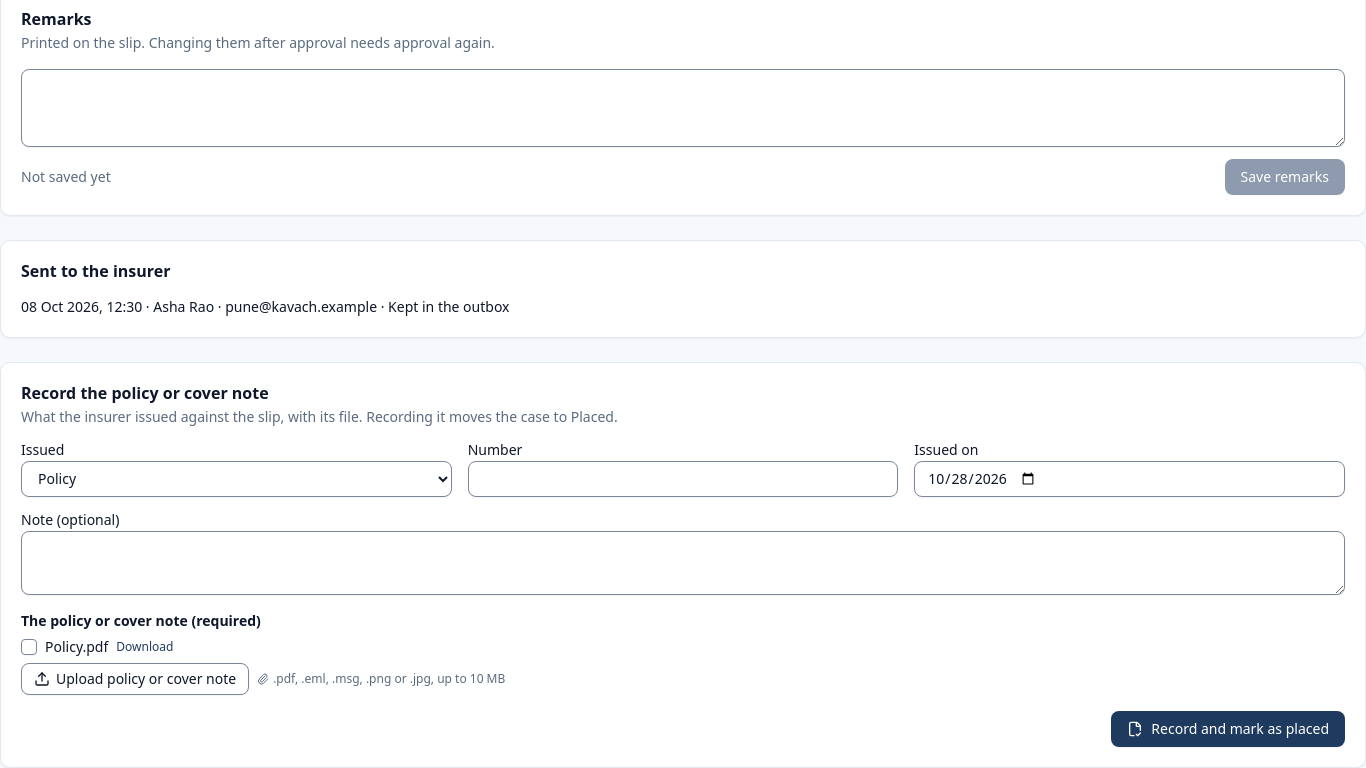
PlacementSlipPanel › records the policy or cover note issued
(page scrolled)
Select "Cover note" in the dropdown labelled "Issued". click: (236, 478)
box: [21,460,452,496]
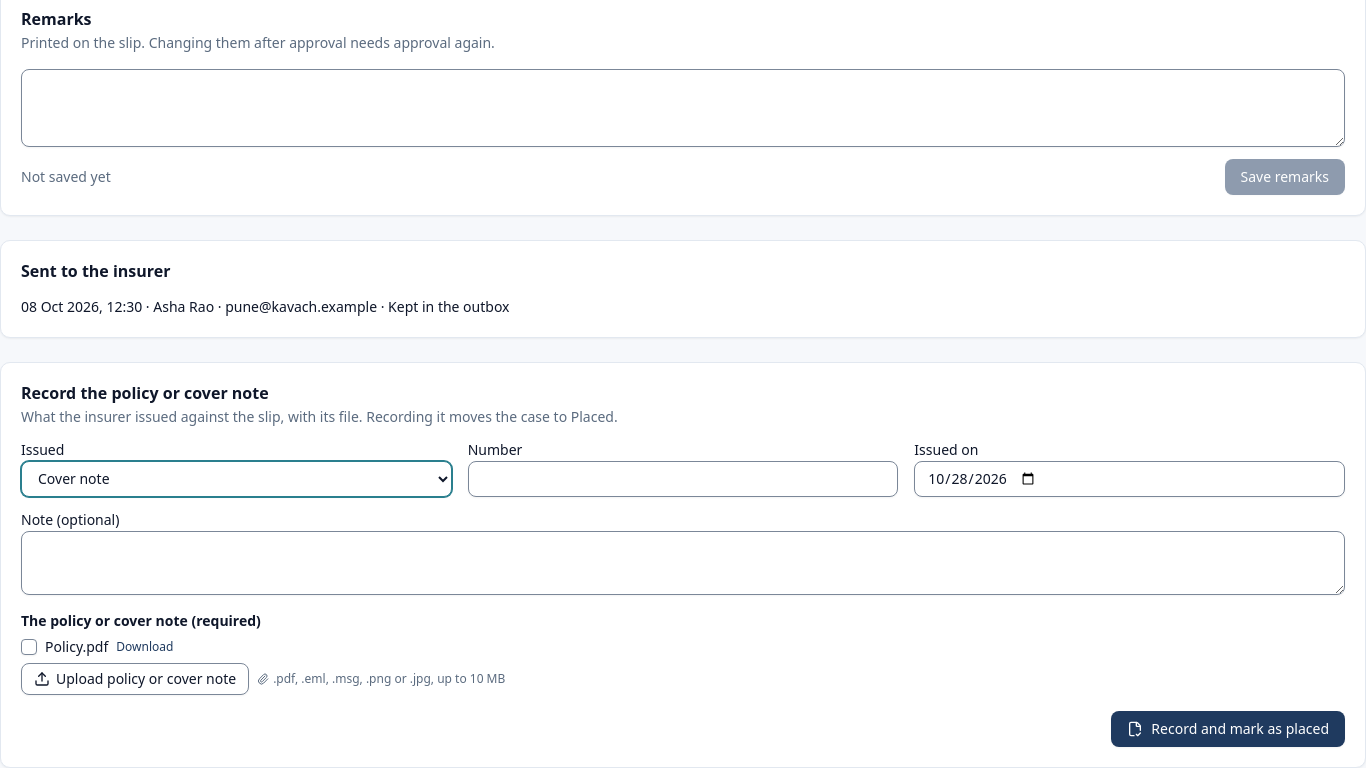
Type "CN-77" into the field labelled "Number". click: (683, 478)
box: [468,460,898,496]
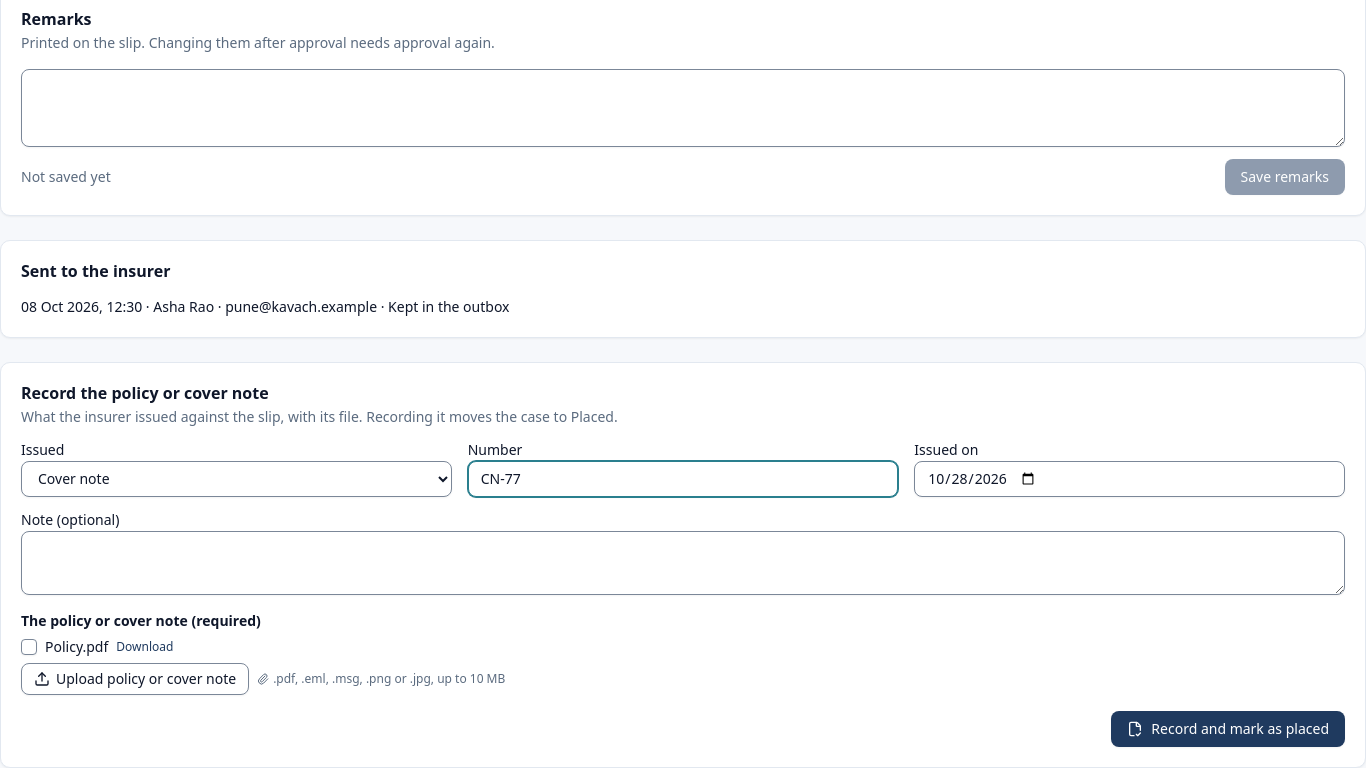
Type "2026-10-08" into the date field labelled "Issued on". click: (1130, 478)
box: [914,460,1345,496]
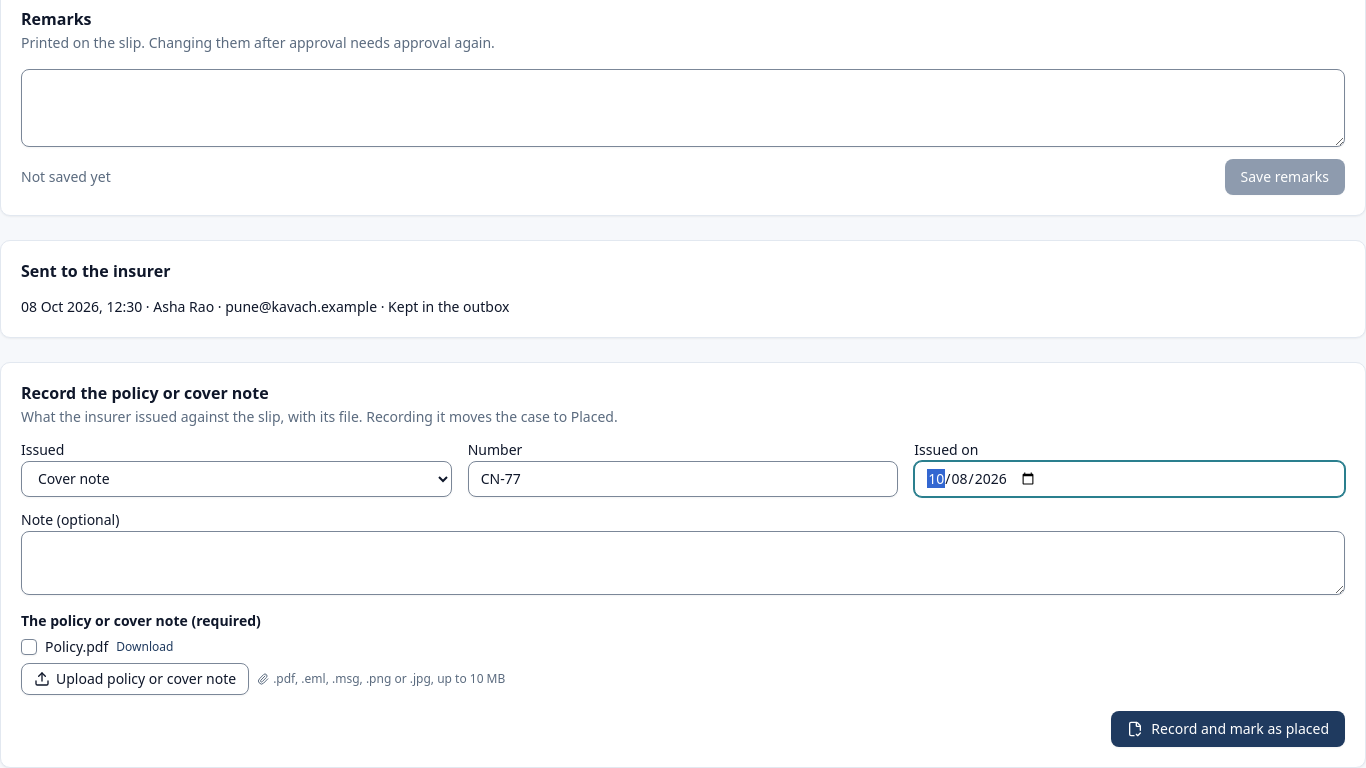
Click the checkbox named "Policy.pdf". click: click(29, 646)
box: [21,638,37,654]
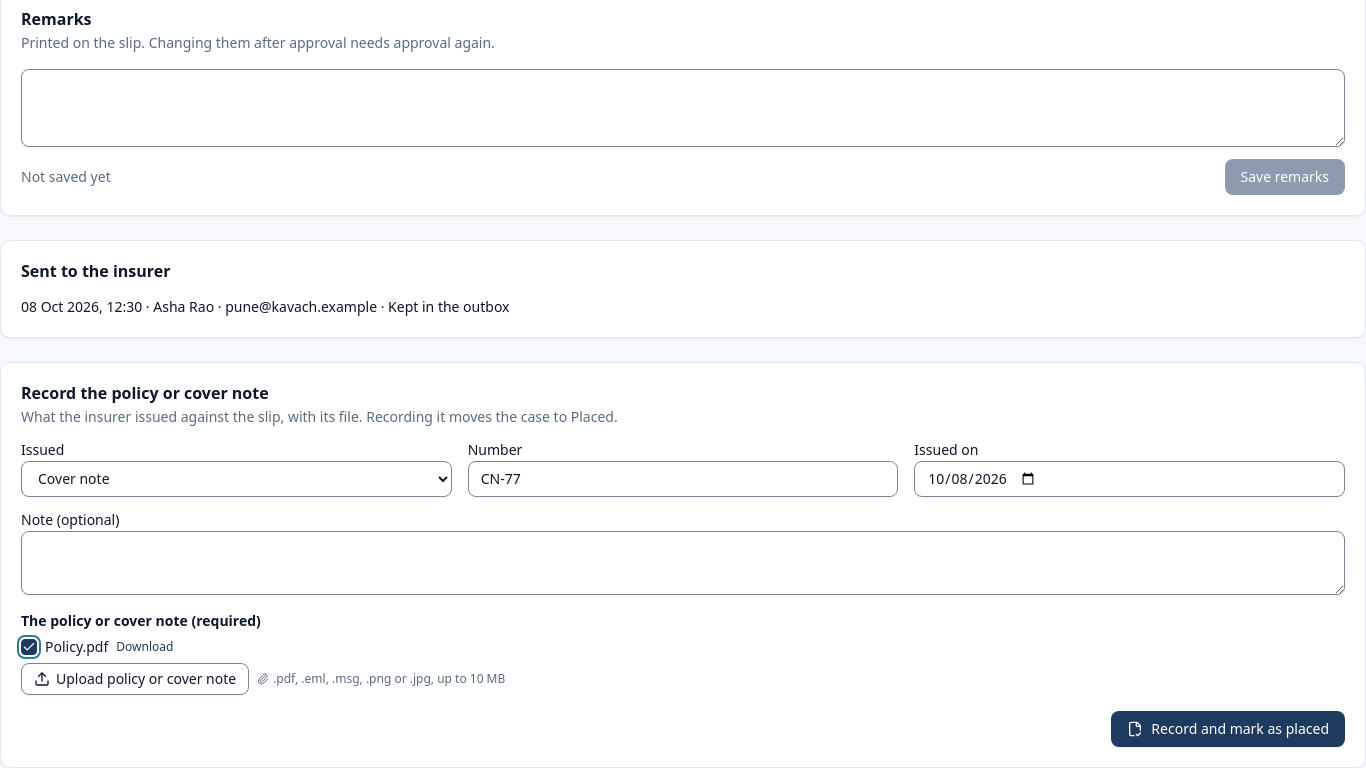
Click the button "Record and mark as placed". click: click(1228, 728)
box: [1111,710,1345,746]
(page scrolled)
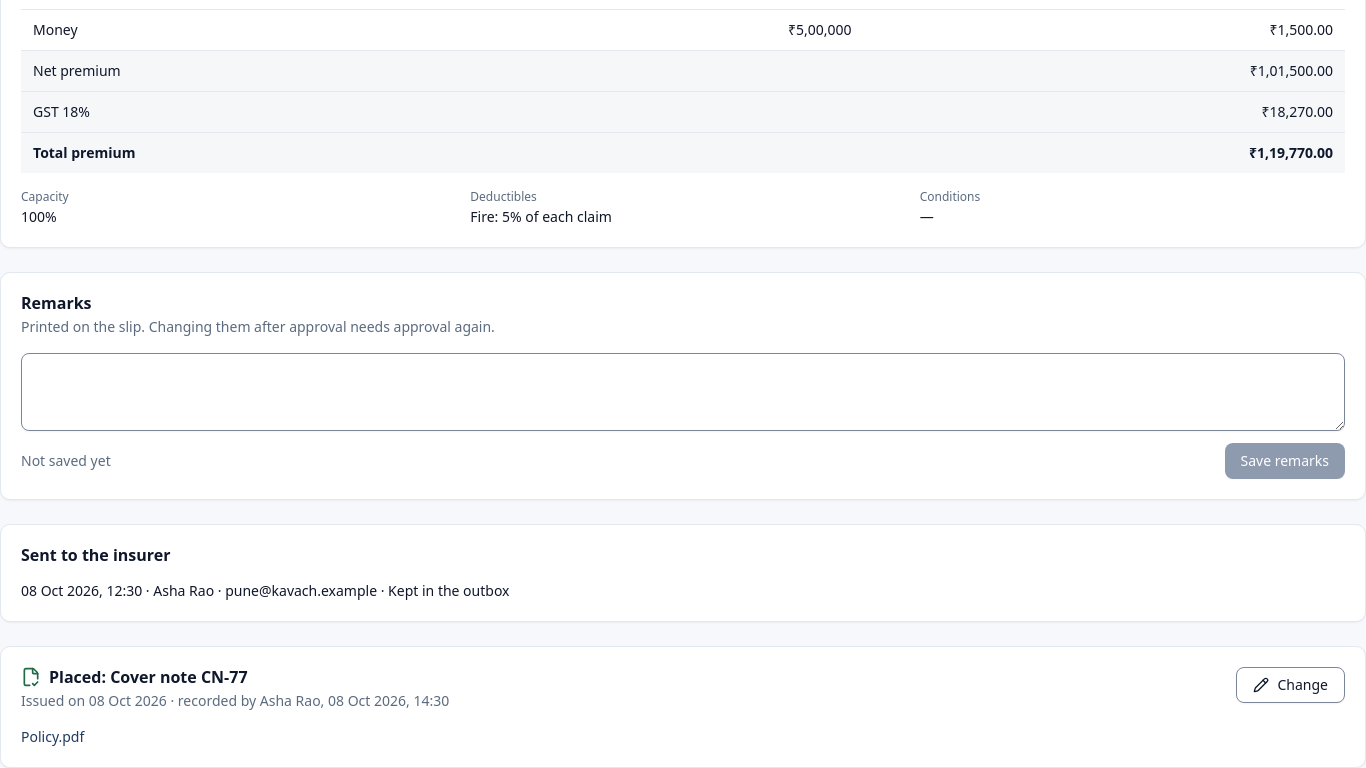
Now the heading "Placed: Cover note CN-77" is shown, box [21,666,248,688]
